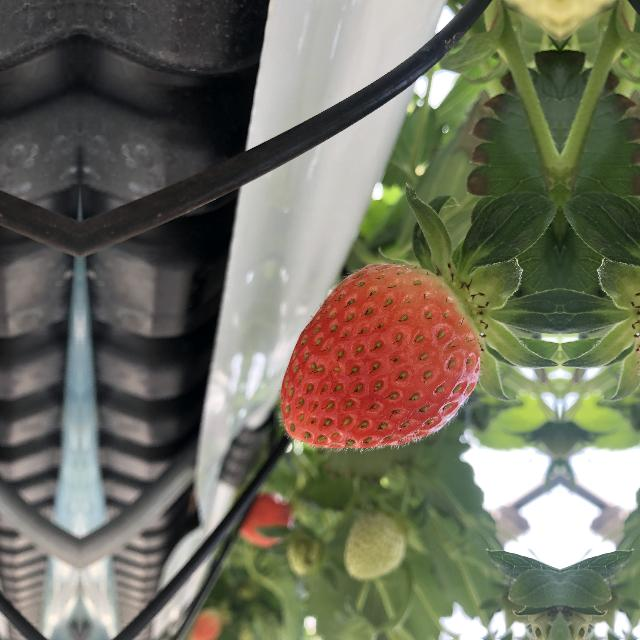Health_100: (272, 244, 488, 458)
